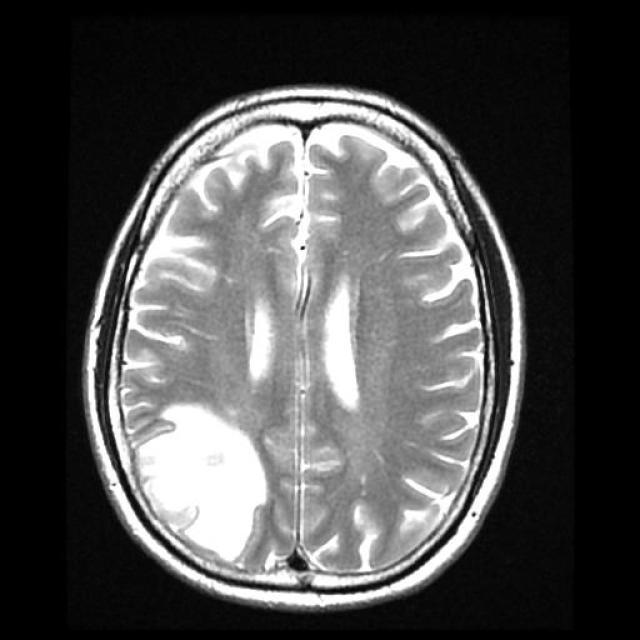brain tumor: (134, 404, 265, 562)
